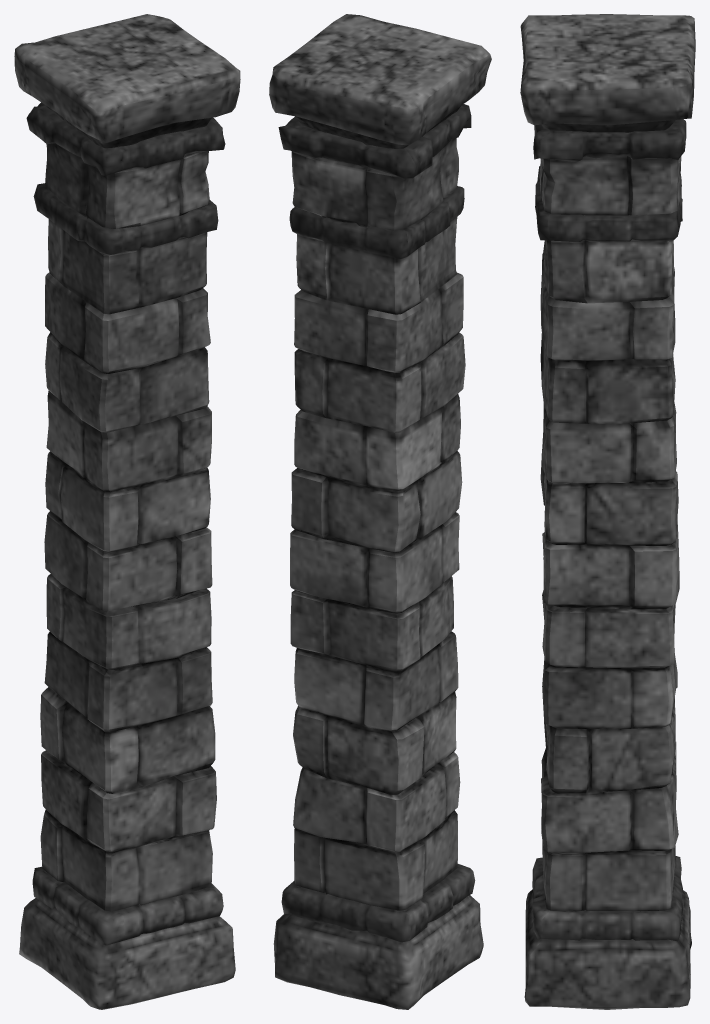
File: SM_Pillar_Stone_a0c46f.glb
The picture shows the model from 3 angles, left to right: view 1: azimuth 30°, elevation 25°; view 2: azimuth 150°, elevation 25°; view 3: azimuth 270°, elevation 25°; orthographic projection. The views are drawn at different scales.
Size of the model in its own units: 0.5689 by 3.33 by 0.5691.
Materials: 1 (1 with a texture image).
